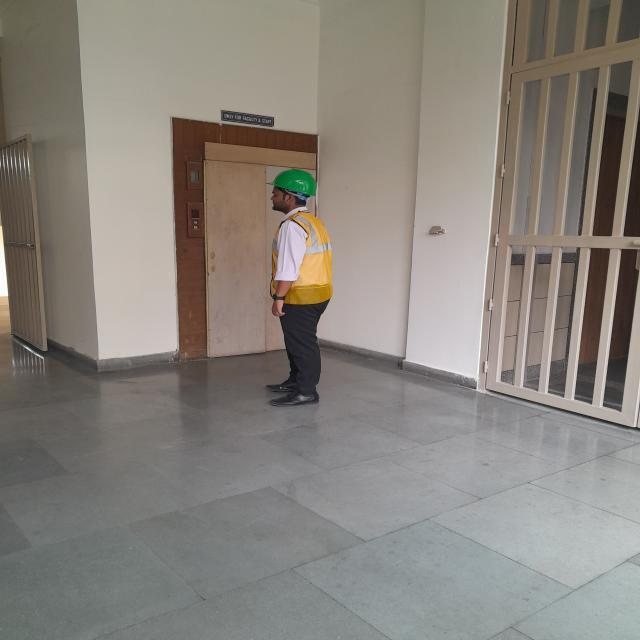safe: (266, 168, 333, 406)
